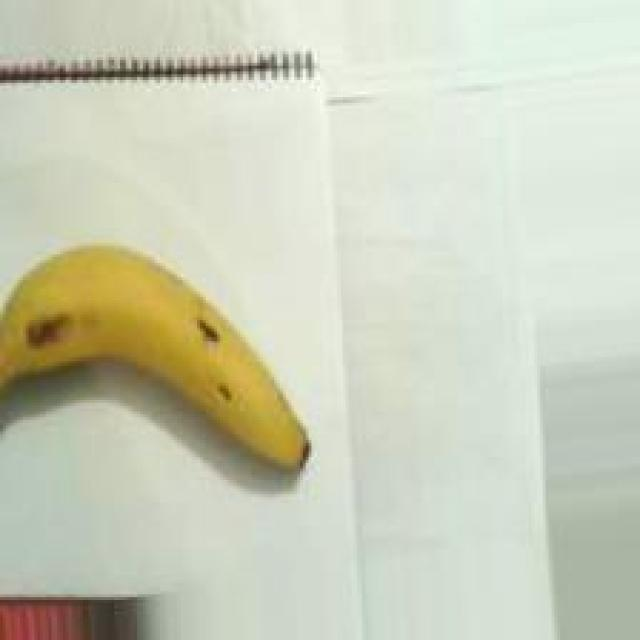banana: (0, 226, 324, 491)
